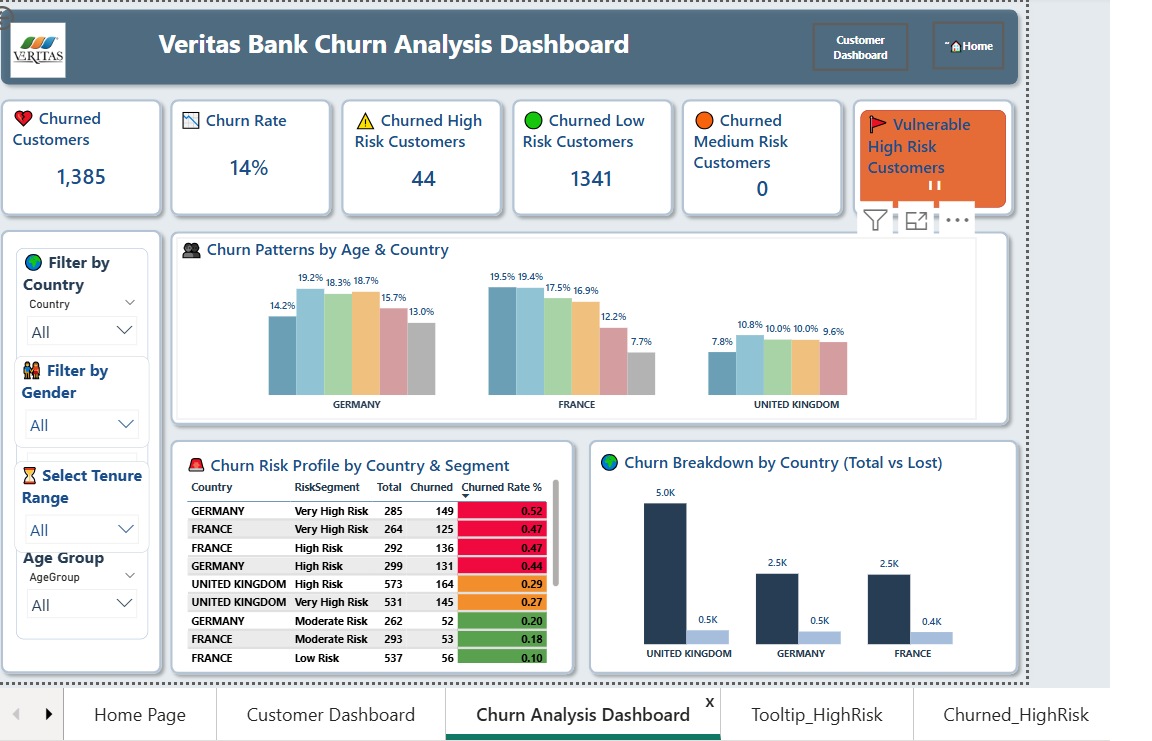

The dashboard page shown, as its layout file describes it:
{"tool":"powerbi","page":{"name":"Churn Analysis Dashboard","canvas":[1300,850],"ordinal":2},"visuals":[{"type":"shape","box":[9.2,0,1290.7,112.5],"z":0},{"type":"shape","box":[9.2,112.5,219.4,164.1],"z":1000},{"type":"shape","box":[435.5,112.5,219.4,164.1],"z":2000},{"type":"shape","box":[648.7,112.5,219.4,164.1],"z":3000},{"type":"shape","box":[861.8,112.5,219.4,164.1],"z":4000},{"type":"shape","box":[1074.9,112.5,219.4,164.1],"z":5000},{"type":"shape","box":[221.4,112.5,219.4,164.1],"z":6000},{"type":"shape","box":[9.2,276.6,219.4,573.4],"z":7000},{"type":"shape","box":[221.4,277.7,1067.7,260.8],"z":8000},{"type":"shape","box":[744.9,538.5,555.4,311.5],"z":9000},{"type":"shape","box":[221.4,538.5,523.5,311.5],"z":10000},{"type":"card","title":"💔 Churned Customers","fields":{"Values":["Calculated Measure.Churned Customers by Country"]},"box":[28.1,131.3,182,122],"z":11000},{"type":"textbox","box":[159.5,24.4,701.8,88.2],"z":12000},{"type":"card","title":"⚠️ Churned High Risk Customers","fields":{"Values":["Calculated Measure.Churned High Risk"]},"box":[456,133.2,182,120.1],"z":13000},{"type":"card","title":"🟢 Churned Low Risk Customers","fields":{"Values":["Calculated Measure.Churned Low Risk"]},"box":[666.1,133.2,182,120.1],"z":14000},{"type":"card","title":"🟠 Churned Medium Risk Customers","fields":{"Values":["Calculated Measure.Churned Medium Risk"]},"box":[880,133.2,182,120.1],"z":15000},{"type":"card","title":"🚩 Vulnerable High Risk Customers","fields":{"Values":["Calculated Measure.At-Risk High Risk Customers"]},"box":[1093.9,135.1,182,122],"z":16000},{"type":"card","title":"📉 Churn Rate","fields":{"Values":["Calculated Measure.Churn Rate (%)"]},"box":[238.3,133.2,182,120.1],"z":17000},{"type":"clusteredColumnChart","title":"🌍 Churn Breakdown by Country (Total vs Lost)","fields":{"Category":["vw_ChurnByCountry.Country"],"Y":["Calculated Measure.Total Customers","Calculated Measure.Churned Customers"]},"box":[761.8,561,514.1,272.1],"z":18000},{"type":"tableEx","title":"🚨 Churn Risk Profile by Country & Segment","fields":{"Values":["vw_EnhancedChurnSegmentation (2).Country","vw_EnhancedChurnSegmentation (2).RiskSegment","Calculated Measure.Total Customers by Risk Segment","Calculated Measure.Churned Customers by Risk Segment","Calculated Measure.Churn Rate by Risk Segment (%)"]},"box":[245.8,564.3,476.6,266.4],"z":19000},{"type":"clusteredColumnChart","title":"👥 Churn Patterns by Age & Country","fields":{"Category":["Dim_Customer.Country"],"Series":["Dim_Customer.AgeGroup"],"Y":["Calculated Measure.Churn Rate (%)"]},"box":[238.3,294.6,1000.1,227],"z":20000},{"type":"actionButton","box":[0,0,100,40],"z":21000},{"type":"slicer","title":"🌍 Filter by Country","fields":{"Values":["Dim_Customer.Country"]},"box":[37.5,307.7,165.1,148.2],"z":22000},{"type":"slicer","title":"⚠️ Select Risk Segment","fields":{"Values":["vw_EnhancedChurnSegmentation.RiskSegment"]},"box":[37.5,478.5,165.1,148.2],"z":23000},{"type":"slicer","title":"🌍 Filter by Age Group","fields":{"Values":["Dim_Customer.AgeGroup"]},"box":[37.5,649.2,165.1,148.2],"z":24000},{"type":"image","box":[9.4,20.6,110.7,78.8],"z":25000},{"type":"actionButton","box":[1184,24.4,90,60],"z":26000},{"type":"actionButton","box":[1033.9,26.3,120.1,60],"z":27000},{"type":"slicer","title":"👫 Filter by Gender","fields":{"Values":["Dim_Customer.Gender"]},"box":[35.7,442.8,168.9,114.5],"z":28000},{"type":"slicer","title":"⏳ Select Tenure Range","fields":{"Values":["Fact_Account.Tenure Group"]},"box":[35.7,574.2,168.9,114.5],"z":29000}]}

Visuals, with their boxes on the page's 1300x850 design canvas (x1, y1, x2, y2). These are canvas units, not pixel positions in the 1152x741 screenshot, which may show the page scaled, cropped or inside an application window:
shape: BBox(9, 0, 1300, 112)
shape: BBox(9, 112, 229, 277)
shape: BBox(436, 112, 655, 277)
shape: BBox(649, 112, 868, 277)
shape: BBox(862, 112, 1081, 277)
shape: BBox(1075, 112, 1294, 277)
shape: BBox(221, 112, 441, 277)
shape: BBox(9, 277, 229, 850)
shape: BBox(221, 278, 1289, 538)
shape: BBox(745, 538, 1300, 850)
shape: BBox(221, 538, 745, 850)
"💔 Churned Customers" card: BBox(28, 131, 210, 253)
textbox: BBox(160, 24, 861, 113)
"⚠️ Churned High Risk Customers" card: BBox(456, 133, 638, 253)
"🟢 Churned Low Risk Customers" card: BBox(666, 133, 848, 253)
"🟠 Churned Medium Risk Customers" card: BBox(880, 133, 1062, 253)
"🚩 Vulnerable High Risk Customers" card: BBox(1094, 135, 1276, 257)
"📉 Churn Rate" card: BBox(238, 133, 420, 253)
"🌍 Churn Breakdown by Country (Total vs Lost)" clusteredColumnChart: BBox(762, 561, 1276, 833)
"🚨 Churn Risk Profile by Country & Segment" tableEx: BBox(246, 564, 722, 831)
"👥 Churn Patterns by Age & Country" clusteredColumnChart: BBox(238, 295, 1238, 522)
actionButton: BBox(0, 0, 100, 40)
"🌍 Filter by Country" slicer: BBox(38, 308, 203, 456)
"⚠️ Select Risk Segment" slicer: BBox(38, 478, 203, 627)
"🌍 Filter by Age Group" slicer: BBox(38, 649, 203, 797)
image: BBox(9, 21, 120, 99)
actionButton: BBox(1184, 24, 1274, 84)
actionButton: BBox(1034, 26, 1154, 86)
"👫 Filter by Gender" slicer: BBox(36, 443, 205, 557)
"⏳ Select Tenure Range" slicer: BBox(36, 574, 205, 689)
